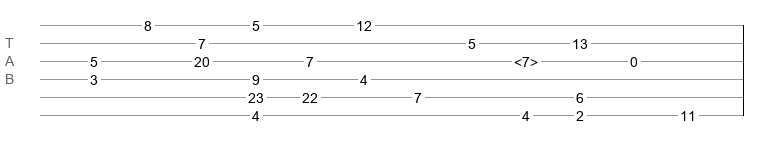0: (630, 54, 638, 64)
11: (680, 108, 696, 118)
12: (356, 18, 372, 28)
13: (572, 36, 588, 46)
2: (576, 108, 584, 118)
20: (194, 54, 210, 64)
22: (302, 90, 318, 100)
23: (248, 90, 264, 100)
3: (90, 72, 98, 82)
4: (252, 108, 260, 118), (360, 72, 368, 82), (522, 108, 530, 118)
5: (90, 54, 98, 64), (252, 18, 260, 28), (468, 36, 476, 46)
6: (576, 90, 584, 100)
7: (198, 36, 206, 46), (306, 54, 314, 64), (414, 90, 422, 100)
8: (144, 18, 152, 28)
9: (252, 72, 260, 82)
harmonic: (514, 54, 538, 64)
